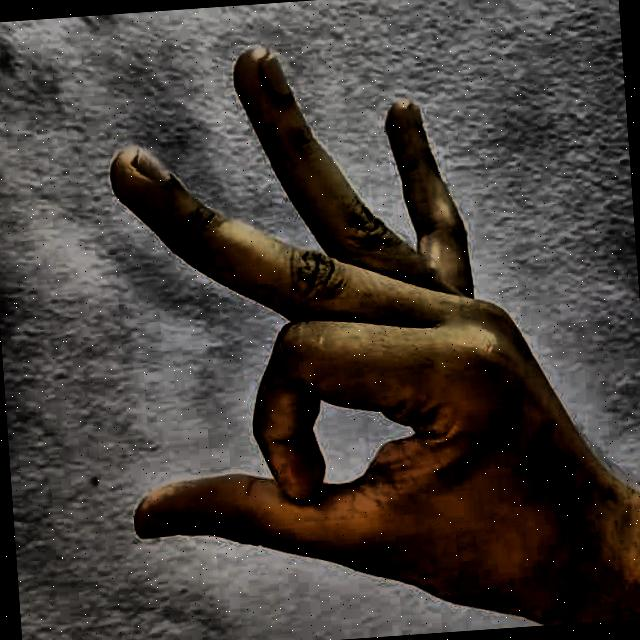Uo: (57, 16, 619, 640)
